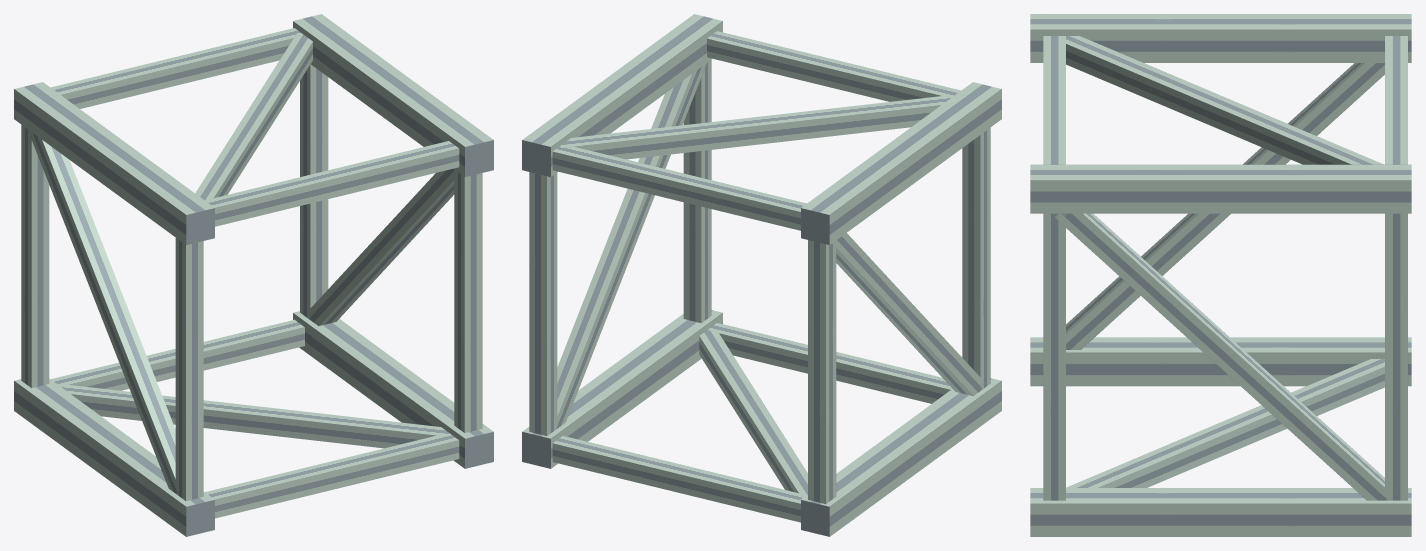
Rendered from ScaffoldingTengah.fbx.
The picture shows the model from 3 angles, left to right: view 1: azimuth 30°, elevation 25°; view 2: azimuth 150°, elevation 25°; view 3: azimuth 270°, elevation 25°; orthographic projection. The views are drawn at different scales.
Parts seen in each view (by area): view 1: ScaffoldingTengah; view 2: ScaffoldingTengah; view 3: ScaffoldingTengah.
Boxes of the visible parts, left/top/right/bottom form: ScaffoldingTengah: left=14, top=14, right=493, bottom=536; ScaffoldingTengah: left=522, top=14, right=1001, bottom=536; ScaffoldingTengah: left=1030, top=14, right=1411, bottom=536.
Bounding box in the file's own units: 100 × 100 × 96.93.
